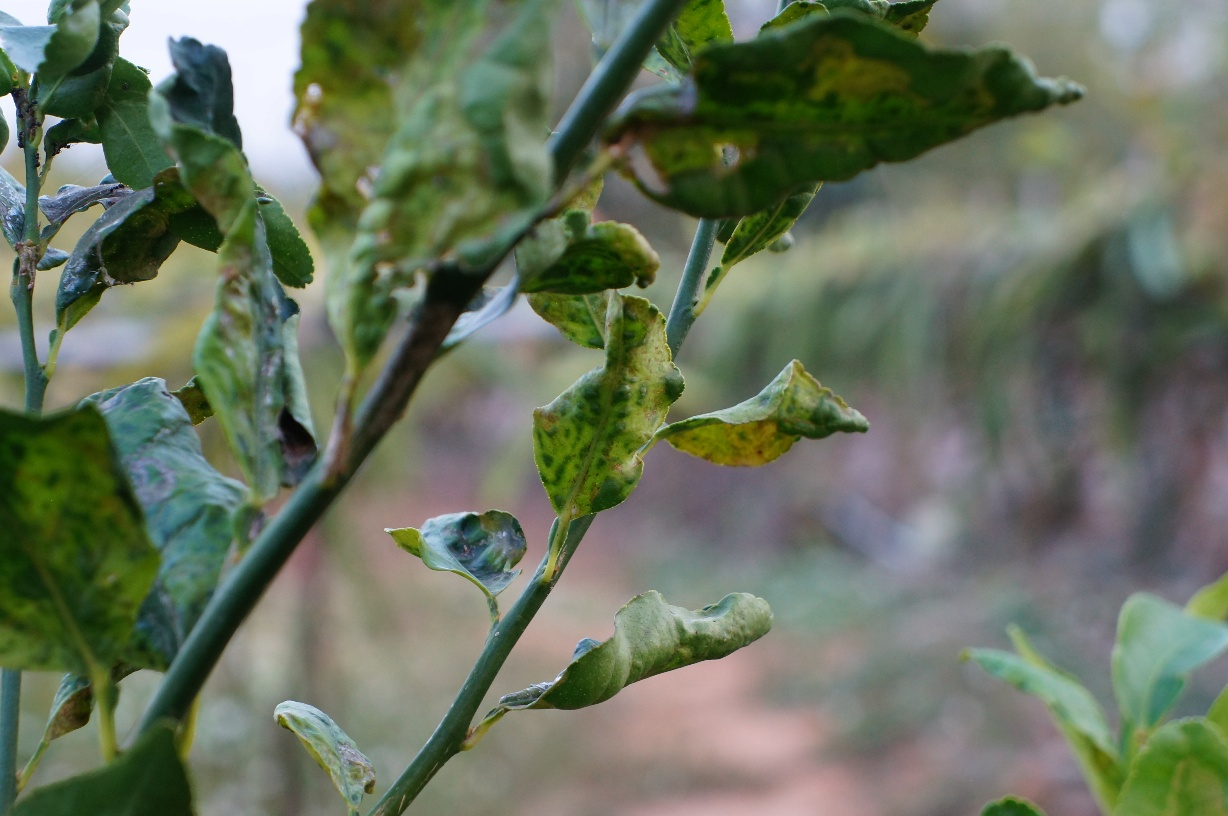damage: (527, 284, 693, 537), (657, 354, 880, 476), (378, 505, 536, 610), (267, 694, 382, 810)
